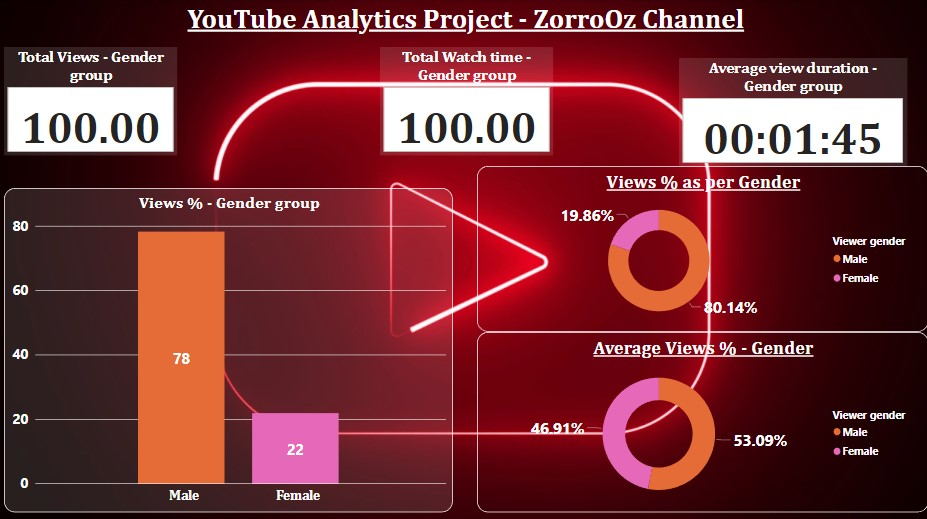

The page's visual inventory and layout, read from the dashboard file:
{"tool":"powerbi","page":{"name":"Gender Stats","canvas":[1280,720],"ordinal":2},"visuals":[{"type":"textbox","box":[10.1,0,1269.9,60.4],"z":0},{"type":"cardVisual","title":"Total Views - Gender group","fields":{"Data":["Gender.Views (%)"]},"box":[10.1,65.4,238.2,149.3],"z":1000},{"type":"cardVisual","title":"Total Watch time - Gender group","fields":{"Data":["Gender.Watch time (hours) (%)"]},"box":[526.8,65.4,238.2,149.3],"z":2000},{"type":"cardVisual","title":"Average view duration - Gender group","fields":{"Data":["Gender.Average view duration"]},"box":[937.8,80.5,313.7,149.3],"z":3000},{"type":"lineStackedColumnComboChart","title":"Views % - Gender group","fields":{"Y":["Gender.Views (%)"],"Category":["Gender.Viewer gender"]},"box":[10.1,260,617.4,446.2],"z":4000},{"type":"donutChart","title":"Views % as per Gender","fields":{"Category":["Gender.Viewer gender"],"Y":["Gender.Watch time (hours) (%)"]},"box":[659.3,229.8,620.7,228.2],"z":5000},{"type":"donutChart","title":"Average Views % - Gender ","fields":{"Category":["Gender.Viewer gender"],"Y":["Gender.Average percentage viewed (%)"]},"box":[659.3,458,620.7,248.3],"z":6000}]}

Visuals, with their boxes in screenshot pixels (x1, y1, x2, y2), scaled from the page's 1280x720 canvas onto the 927x519 screenshot:
textbox: select_region(7, 0, 926, 44)
"Total Views - Gender group" cardVisual: select_region(7, 47, 180, 155)
"Total Watch time - Gender group" cardVisual: select_region(382, 47, 554, 155)
"Average view duration - Gender group" cardVisual: select_region(679, 58, 906, 166)
"Views % - Gender group" lineStackedColumnComboChart: select_region(7, 187, 454, 509)
"Views % as per Gender" donutChart: select_region(477, 166, 926, 330)
"Average Views % - Gender " donutChart: select_region(477, 330, 926, 509)
